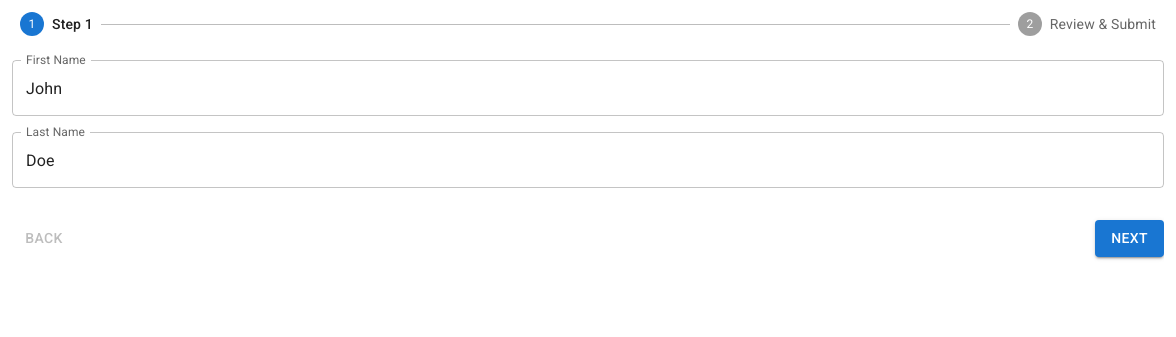
Scenario: StepperForm › Review Step › should display review content on review step
Navigate to review step
Click the button "Next". click: [1130, 238]
box: [1095,220,1164,256]
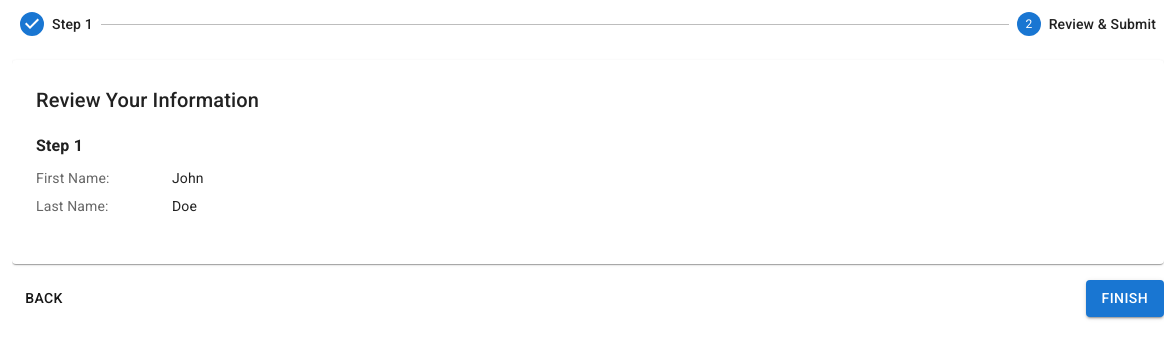
Now the heading "Review Your Information" is shown, box [36,88,259,112]
Now the text "John" is shown, box [172,168,204,188]
Now the text "Doe" is shown, box [172,196,197,216]
